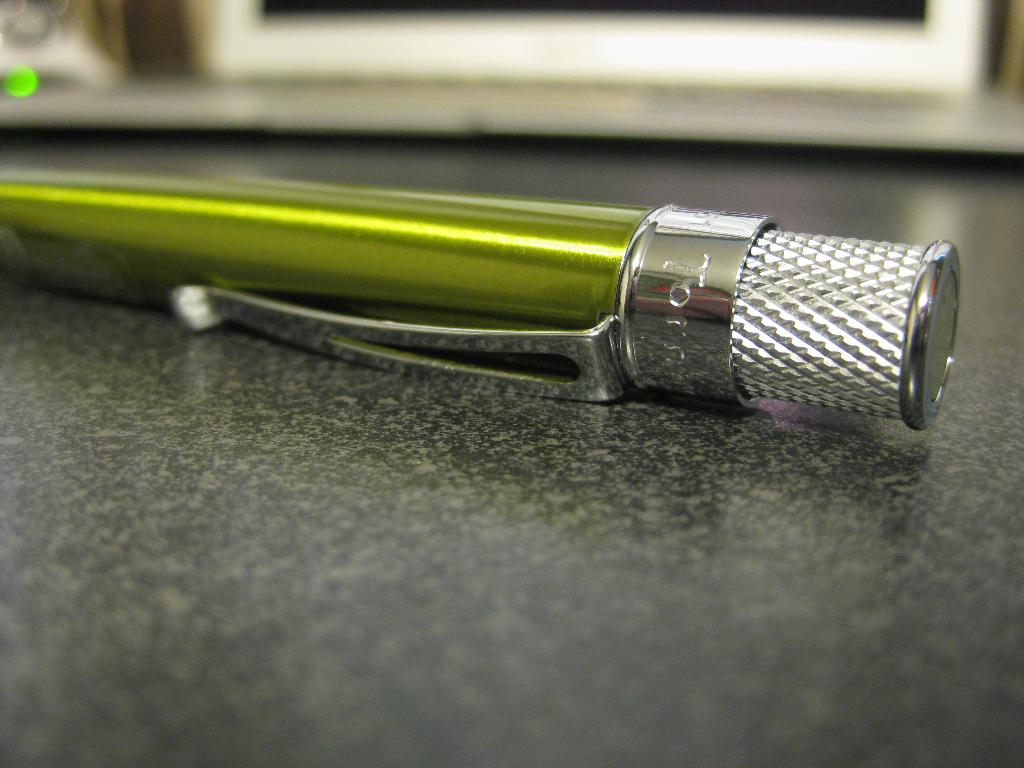Pen: (0, 163, 964, 434)
